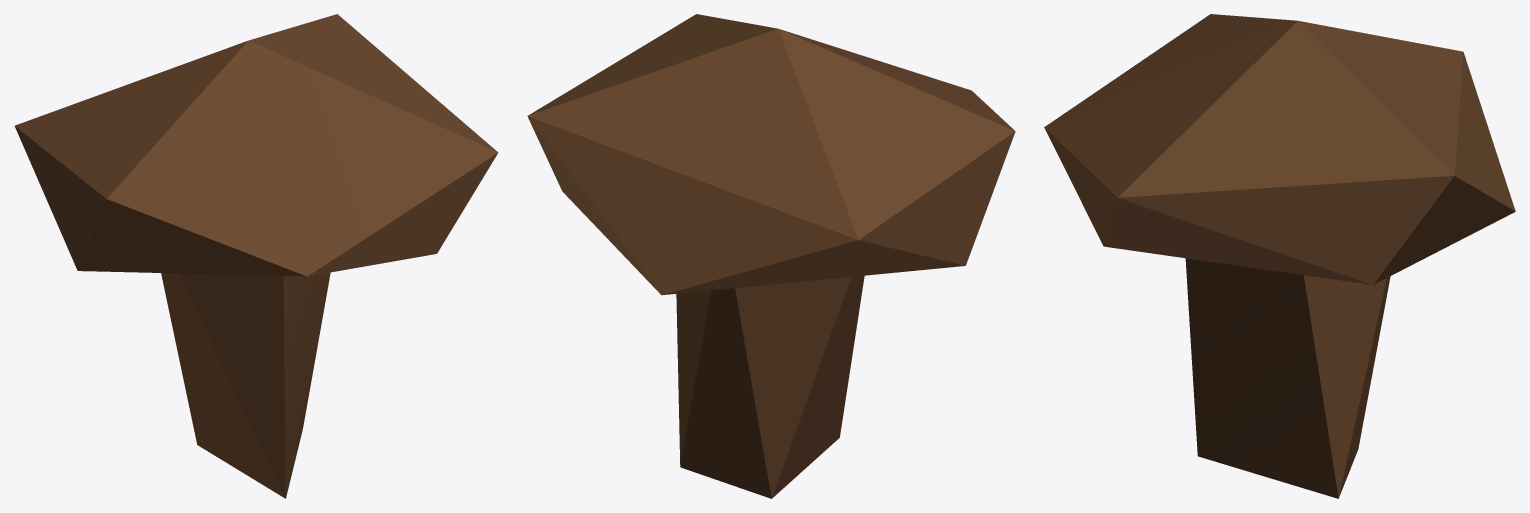
The model's file is mushroom_lod_3.dae.
3 views of the same model, side by side, from view 1: azimuth 30°, elevation 25°; view 2: azimuth 150°, elevation 25°; view 3: azimuth 270°, elevation 25° (orthographic). The views are drawn at different scales.
Visible parts, largest first — view 1: mushroom; view 2: mushroom; view 3: mushroom.
Part boxes in pixels (<box>): mushroom: <box>14,14,498,498</box>; mushroom: <box>527,14,1015,498</box>; mushroom: <box>1044,14,1515,498</box>.
Bounding box in the file's own units: 0.1585 × 0.175 × 0.1806.
